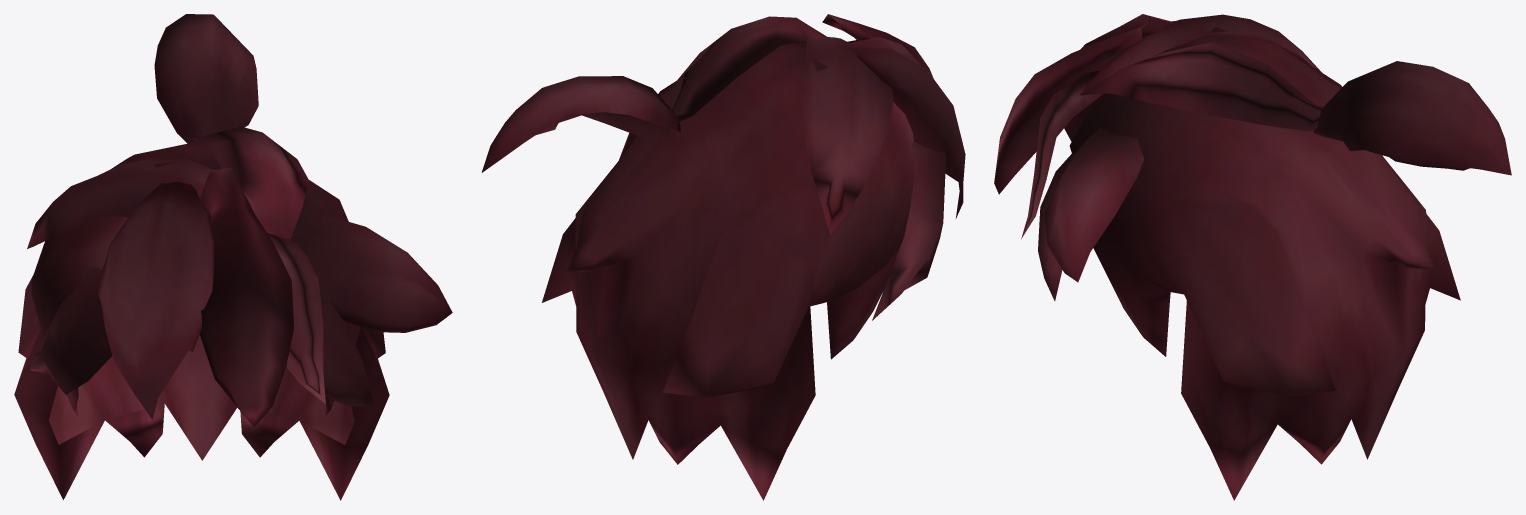
File: Head3.fbx
3 renders of one model, left to right at view 1: azimuth 30°, elevation 25°; view 2: azimuth 150°, elevation 25°; view 3: azimuth 270°, elevation 25°, orthographic. The views are drawn at different scales.
Parts seen in each view (by area): view 1: Hair05; view 2: Hair05; view 3: Hair05.
Part boxes in pixels (x1,y1,x2,y2): Hair05: (14, 14, 452, 500); Hair05: (481, 14, 965, 500); Hair05: (994, 14, 1511, 500).
Size of the model in its own units: 1.81 by 2.07 by 2.38.
